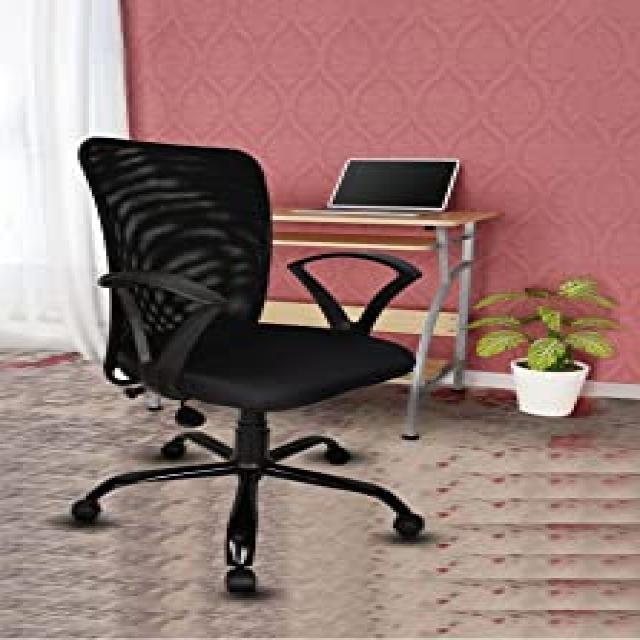chair: (63, 132, 430, 600)
